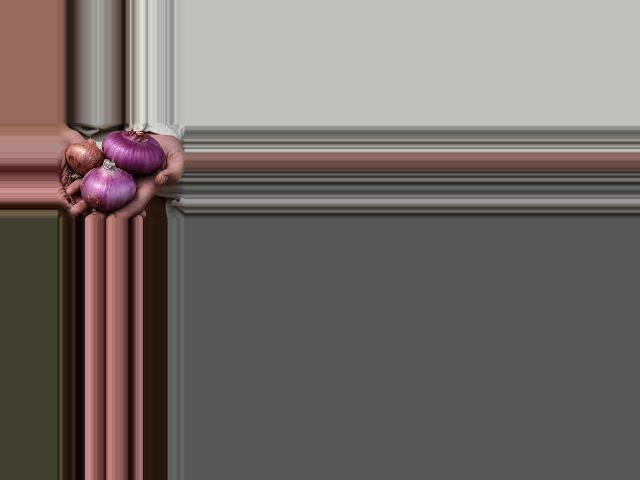onion: (104, 132, 164, 170)
